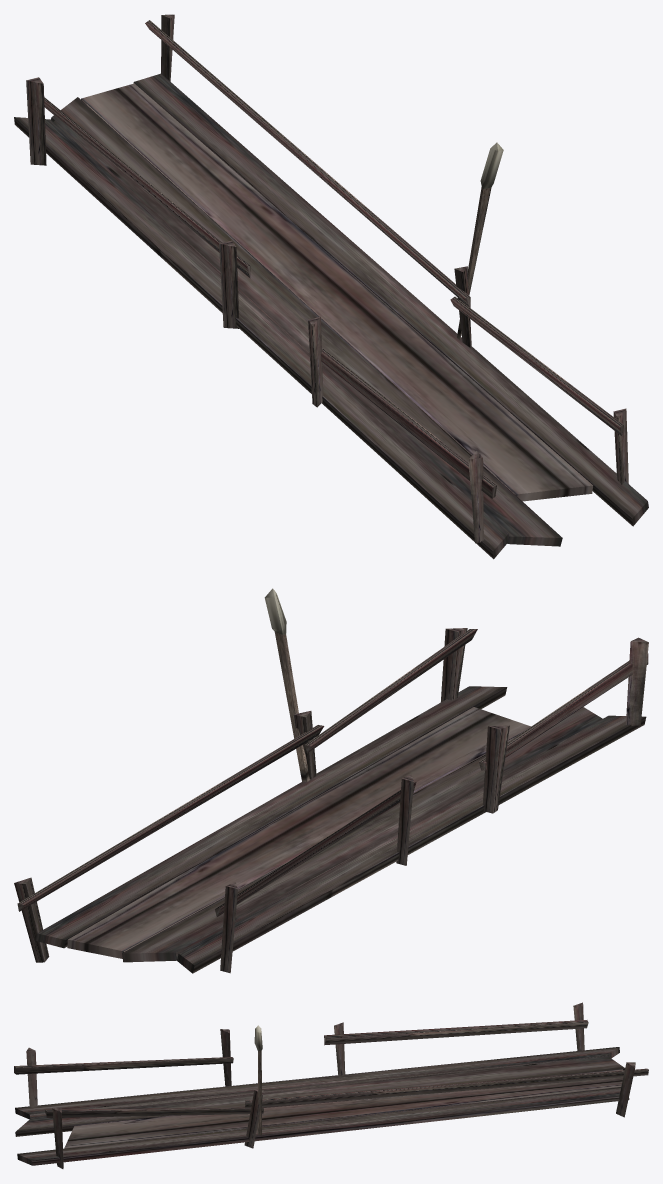
The model's file is pir_m_prp_swm_catwalk.fbx.
3 views of the same model, one above another, from view 1: azimuth 30°, elevation 25°; view 2: azimuth 150°, elevation 25°; view 3: azimuth 270°, elevation 25° (orthographic). The views are drawn at different scales.
Parts seen in each view (by area): view 1: TablePlank30, TablePlank31, TablePlank148, TablePlank32, balconypost130, balconypost129, balconypost128, balconypost131, Torch38, balconypost115, balconypost114, balconypost113 (+2 smaller); view 2: TablePlank30, TablePlank148, TablePlank31, TablePlank32, balconypost130, balconypost129, balconypost131, balconypost128, Torch38, balconypost113, balconypost216, balconypost120 (+4 smaller); view 3: TablePlank30, TablePlank31, TablePlank32, TablePlank148, balconypost130, balconypost128, balconypost129, balconypost131, balconypost120, balconypost121, Torch38, balconypost217 (+4 smaller).
Part boxes in pixels (left/top/right/bottom): TablePlank30: left=81, top=83, right=593, bottom=501; TablePlank31: left=133, top=73, right=648, bottom=526; TablePlank148: left=14, top=117, right=509, bottom=559; TablePlank32: left=50, top=97, right=562, bottom=546; balconypost130: left=145, top=20, right=470, bottom=307; balconypost129: left=321, top=348, right=496, bottom=498; balconypost128: left=44, top=97, right=250, bottom=278; balconypost131: left=450, top=296, right=623, bottom=436; Torch38: left=457, top=142, right=503, bottom=339; balconypost115: left=26, top=77, right=46, bottom=165; balconypost114: left=219, top=240, right=239, bottom=328; balconypost113: left=308, top=316, right=323, bottom=407; TablePlank30: left=67, top=707, right=530, bottom=958; TablePlank148: left=177, top=715, right=646, bottom=973; TablePlank31: left=35, top=686, right=507, bottom=948; TablePlank32: left=122, top=707, right=602, bottom=962; balconypost130: left=17, top=725, right=324, bottom=911; balconypost129: left=479, top=653, right=648, bottom=770; balconypost131: left=304, top=629, right=477, bottom=753; balconypost128: left=215, top=782, right=416, bottom=916; Torch38: left=264, top=588, right=309, bottom=781; balconypost113: left=482, top=725, right=509, bottom=813; balconypost216: left=626, top=637, right=648, bottom=725; balconypost120: left=14, top=877, right=49, bottom=962; TablePlank30: left=64, top=1069, right=623, bottom=1148; TablePlank31: left=17, top=1087, right=629, bottom=1165; TablePlank32: left=15, top=1056, right=625, bottom=1136; TablePlank148: left=15, top=1047, right=619, bottom=1119; balconypost130: left=245, top=1068, right=648, bottom=1109; balconypost128: left=324, top=1020, right=588, bottom=1045; balconypost129: left=14, top=1057, right=233, bottom=1074; balconypost131: left=45, top=1107, right=263, bottom=1117; balconypost120: left=616, top=1062, right=635, bottom=1117; balconypost121: left=244, top=1090, right=263, bottom=1148; Torch38: left=254, top=1025, right=262, bottom=1135; balconypost217: left=52, top=1108, right=63, bottom=1168.
Bounding box in the file's own units: 1454 × 1466 × 5586.
2 materials, 2 textured.
